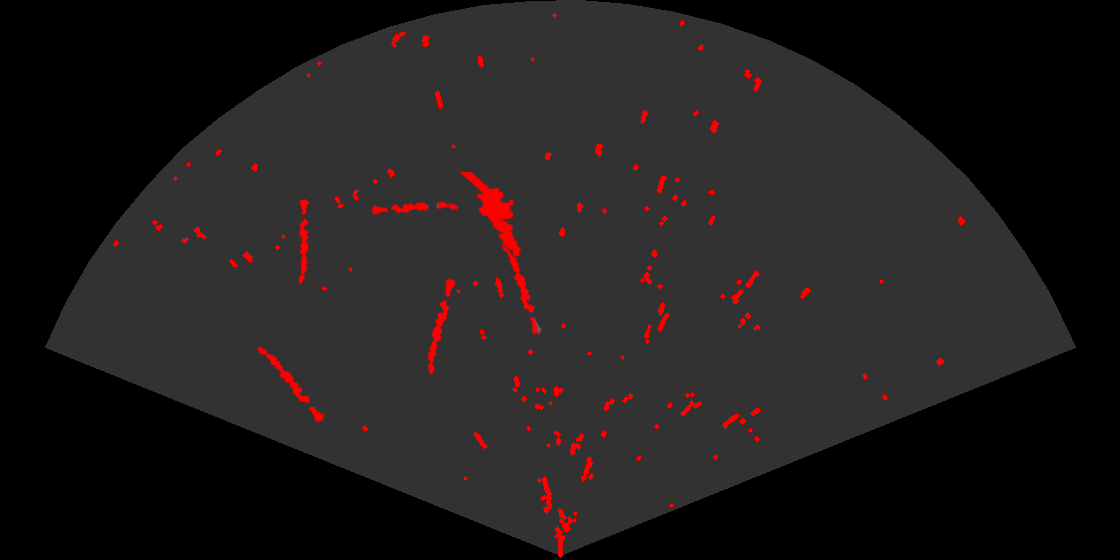chain: (256, 345, 326, 424), (500, 241, 543, 336), (426, 276, 457, 376), (369, 200, 460, 216), (297, 198, 311, 285)
frogman: (458, 172, 523, 258)
